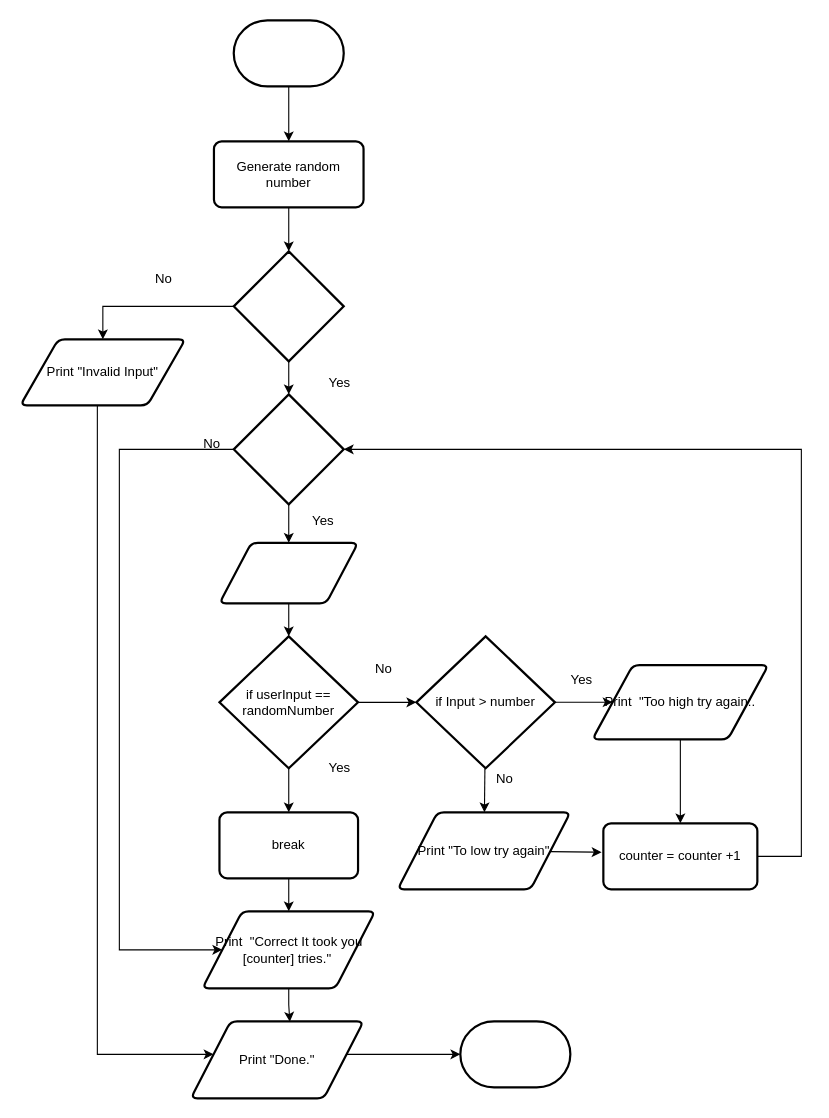
Image size: 829x1118. Some labels were removed from this diagram. The centre of each missing label's shape, as x and y in pixels:
Get userInput: the point at 288,572
if (user input < ll > 0): the point at 288,306
Start: the point at 288,53
Stop: the point at 515,1054
while(True): the point at 288,449
